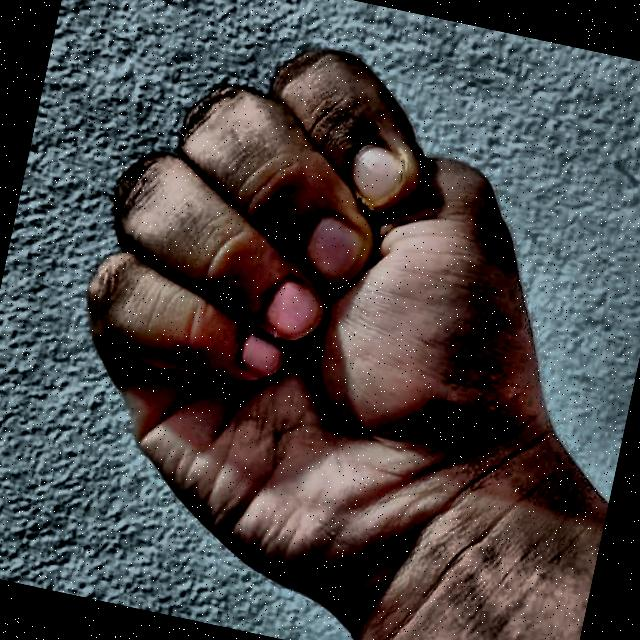To: (24, 0, 616, 640)
